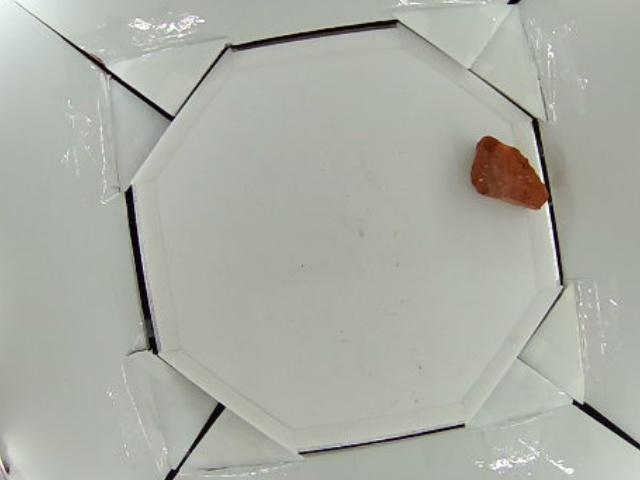Brisk: (469, 134, 553, 211)
